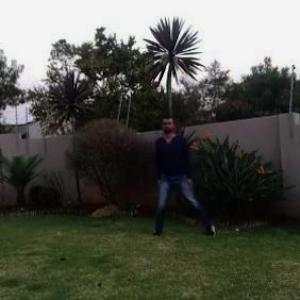follow: (154, 106, 192, 233)
